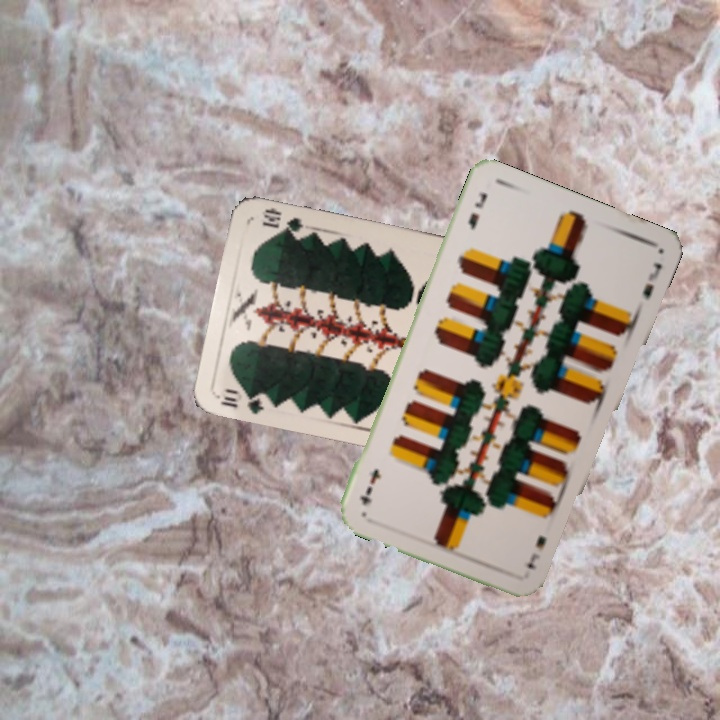E7: (464, 188, 490, 233), (523, 531, 549, 572)
G10: (214, 388, 267, 417)
